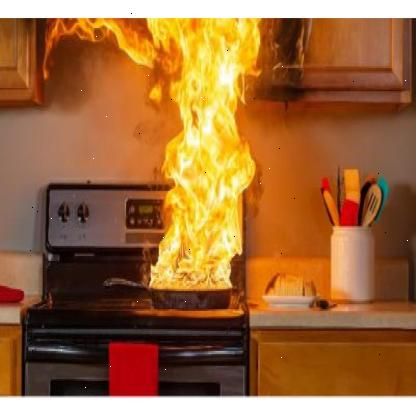fire: (41, 17, 265, 297)
